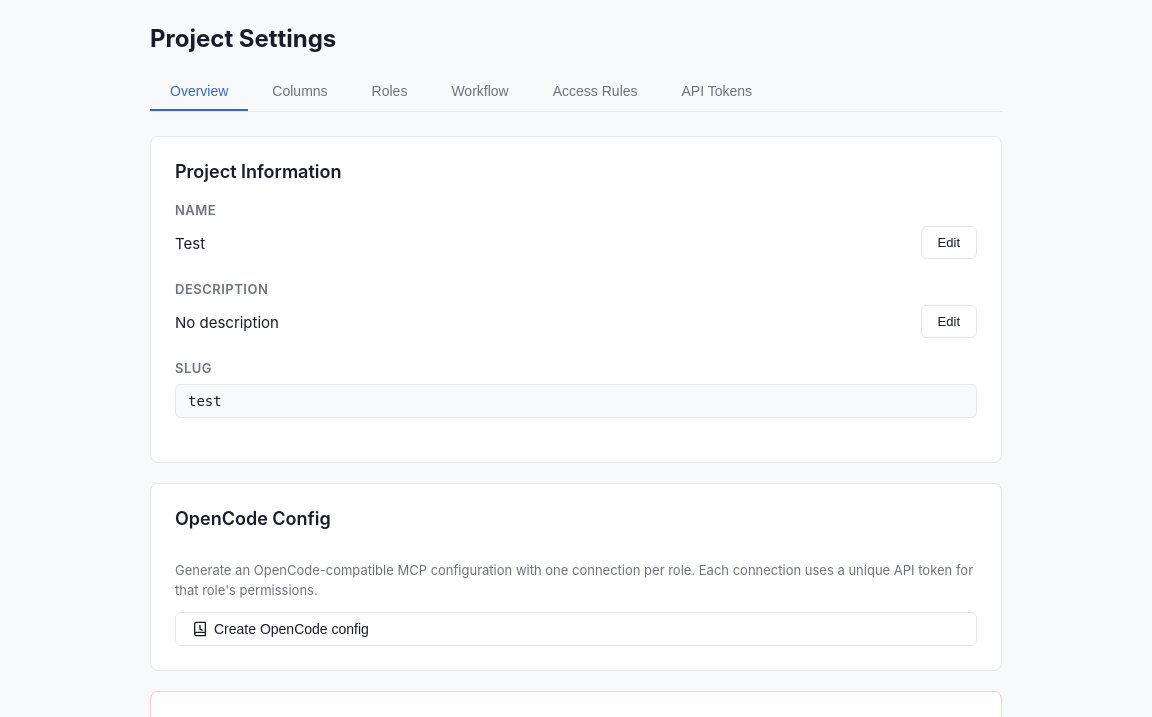
Test case: Settings › renders roles tab with roles table
The image size is (1152, 717).
Click the button with class "tab-btn" showing "Roles".
click(390, 92)  # box [352,73,427,111]
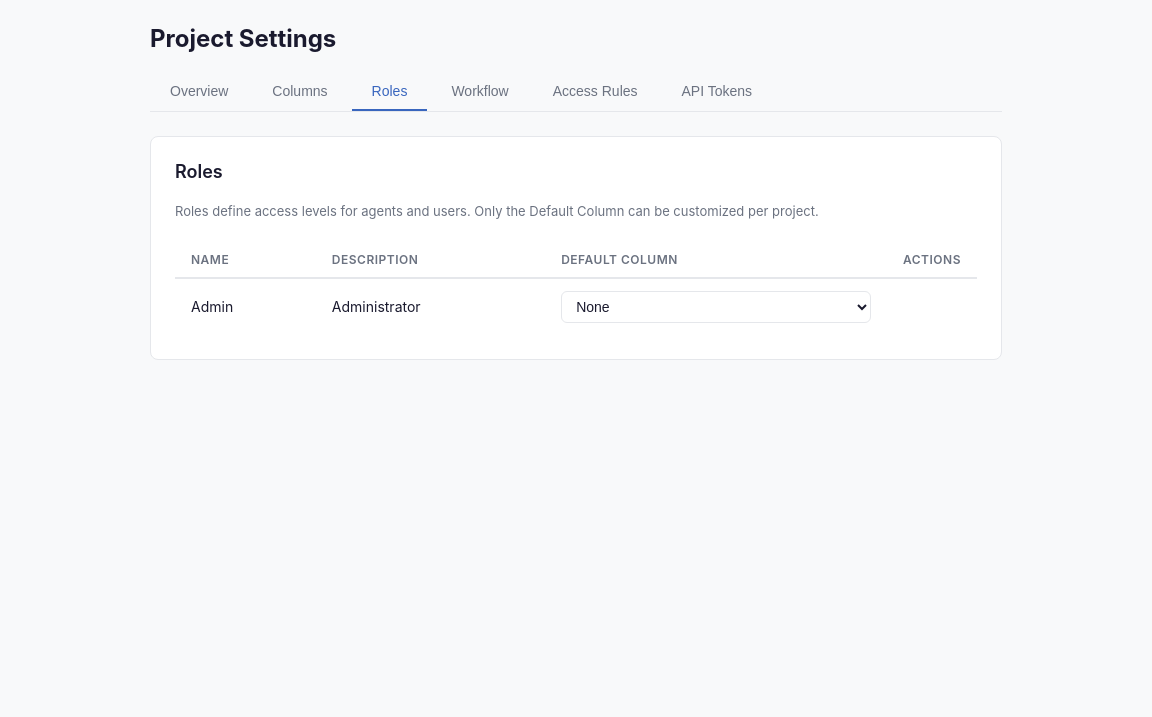
expect the column heading "Name" is shown: met, box [175,242,316,278]
expect the heading "Roles" is shown: met, box [175,161,223,182]
